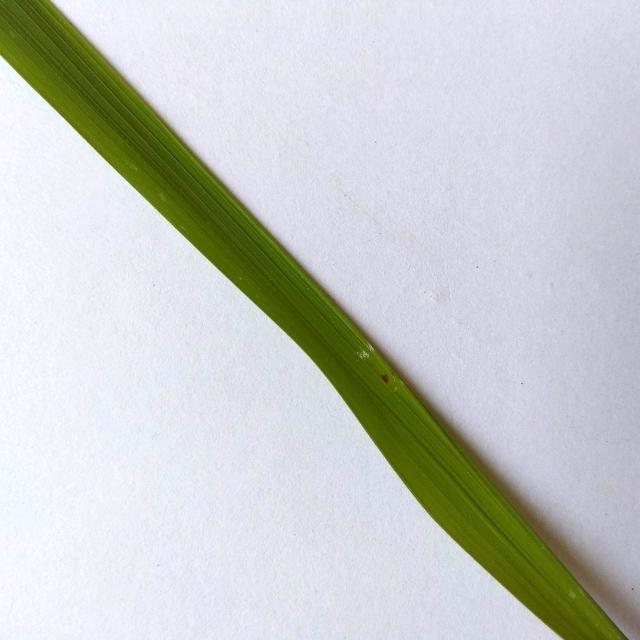brownspots: (374, 366, 399, 388)
